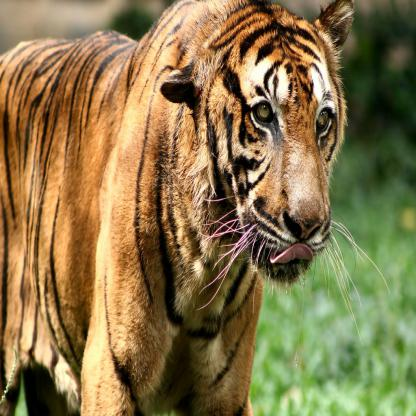Tiger: (0, 0, 390, 415)
